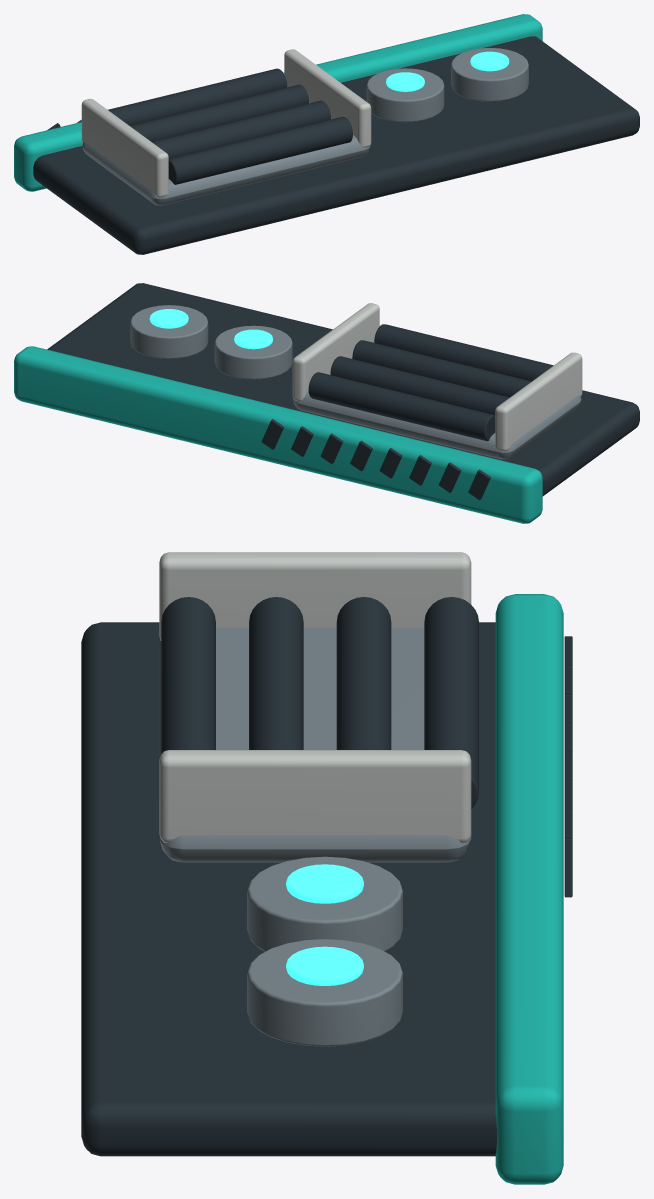
Rendered from SM_Dock_Material_Tray.fbx.
3 renders of one model, top to bottom at view 1: azimuth 30°, elevation 25°; view 2: azimuth 150°, elevation 25°; view 3: azimuth 270°, elevation 25°, orthographic. The views are drawn at different scales.
Parts seen in each view (by area): view 1: SM_Dock_Material_Tray; view 2: SM_Dock_Material_Tray; view 3: SM_Dock_Material_Tray.
Boxes of the visible parts, left/top/right/bottom form: SM_Dock_Material_Tray: left=14, top=14, right=639, bottom=254; SM_Dock_Material_Tray: left=14, top=283, right=639, bottom=523; SM_Dock_Material_Tray: left=81, top=552, right=572, bottom=1184.
Size of the model in its own units: 123 by 50.4 by 20.5.
